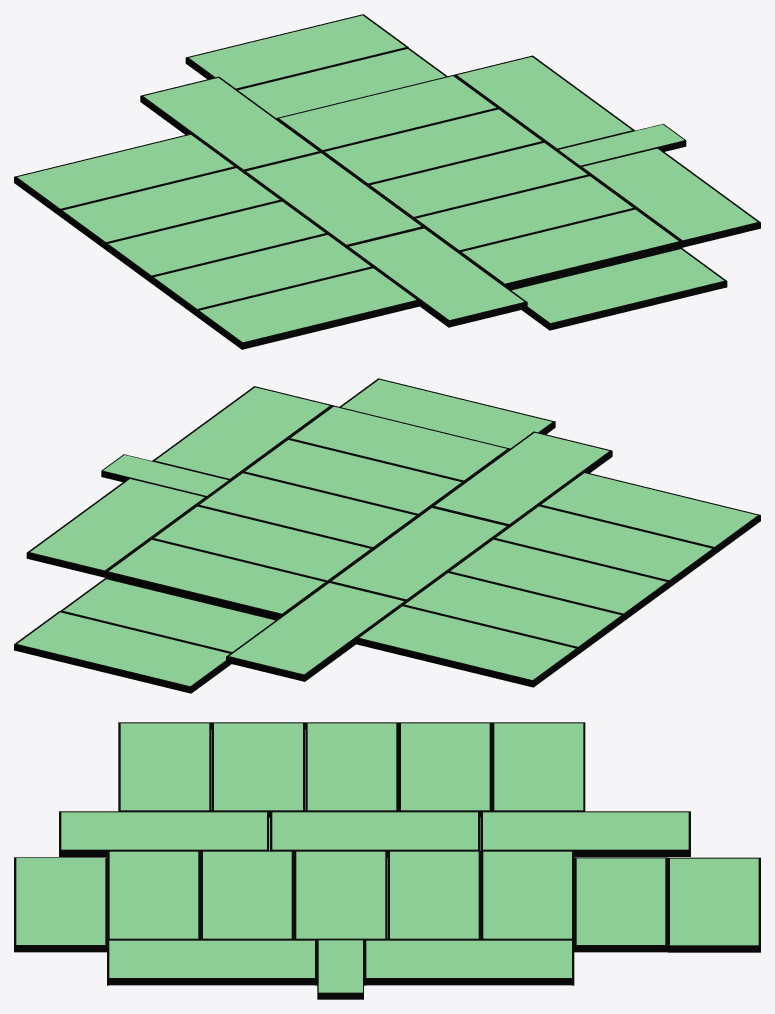
The model's file is first_room_floor.glb.
The picture shows the model from 3 angles, top to bottom: view 1: azimuth 30°, elevation 25°; view 2: azimuth 150°, elevation 25°; view 3: azimuth 270°, elevation 25°; orthographic projection. The views are drawn at different scales.
Parts seen in each view (by area): view 1: wood1.019, wood1.013, wood1.005, wood1.012, wood1.006, wood1.017, wood1.015, wood1.016, wood1.018, wood1.010, wood1.014, wood1.004 (+7 smaller); view 2: wood1.018, wood1.014, wood1.003, wood1.010, wood1.007, wood1.015, wood1.016, wood1.017, wood1.019, wood1.012, wood1.004, wood1.002 (+7 smaller); view 3: wood1.006, wood1.007, wood1.010, wood1.009, wood1.014, wood1.013, wood1.012, wood1.017, wood1.002, wood1.005, wood1.016, wood1.019 (+7 smaller).
Boxes of the visible parts, x1=… form: wood1.019: x1=196, y1=267, x2=419, y2=349; wood1.013: x1=511, y1=248, x2=727, y2=330; wood1.005: x1=459, y1=208, x2=681, y2=289; wood1.012: x1=346, y1=227, x2=527, y2=327; wood1.006: x1=579, y1=147, x2=760, y2=247; wood1.017: x1=59, y1=167, x2=282, y2=249; wood1.015: x1=151, y1=233, x2=373, y2=315; wood1.016: x1=105, y1=200, x2=327, y2=282; wood1.018: x1=14, y1=133, x2=236, y2=215; wood1.010: x1=140, y1=76, x2=321, y2=170; wood1.014: x1=185, y1=14, x2=408, y2=89; wood1.004: x1=413, y1=175, x2=635, y2=251; wood1.018: x1=356, y1=605, x2=578, y2=687; wood1.014: x1=14, y1=611, x2=231, y2=693; wood1.003: x1=105, y1=538, x2=327, y2=619; wood1.010: x1=226, y1=581, x2=406, y2=681; wood1.007: x1=26, y1=477, x2=207, y2=577; wood1.015: x1=493, y1=505, x2=715, y2=587; wood1.016: x1=447, y1=538, x2=669, y2=620; wood1.017: x1=402, y1=571, x2=624, y2=653; wood1.019: x1=538, y1=472, x2=760, y2=553; wood1.012: x1=431, y1=431, x2=612, y2=525; wood1.004: x1=242, y1=438, x2=464, y2=514; wood1.002: x1=151, y1=505, x2=373, y2=581; wood1.006: x1=107, y1=939, x2=317, y2=985; wood1.007: x1=364, y1=939, x2=574, y2=985; wood1.010: x1=480, y1=811, x2=690, y2=856; wood1.009: x1=574, y1=857, x2=667, y2=952; wood1.014: x1=667, y1=857, x2=760, y2=952; wood1.013: x1=14, y1=857, x2=107, y2=952; wood1.012: x1=59, y1=811, x2=269, y2=856; wood1.017: x1=398, y1=722, x2=491, y2=817; wood1.002: x1=387, y1=850, x2=480, y2=939; wood1.005: x1=107, y1=850, x2=200, y2=939; wood1.016: x1=305, y1=722, x2=398, y2=811; wood1.019: x1=118, y1=722, x2=211, y2=811.
Bounding box in the file's own units: 54.84 × 1.2 × 63.96.
